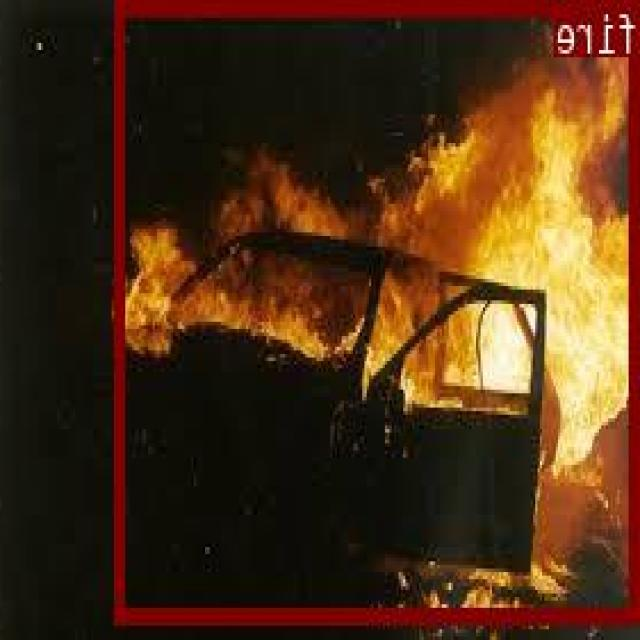fire: (118, 0, 640, 619)
